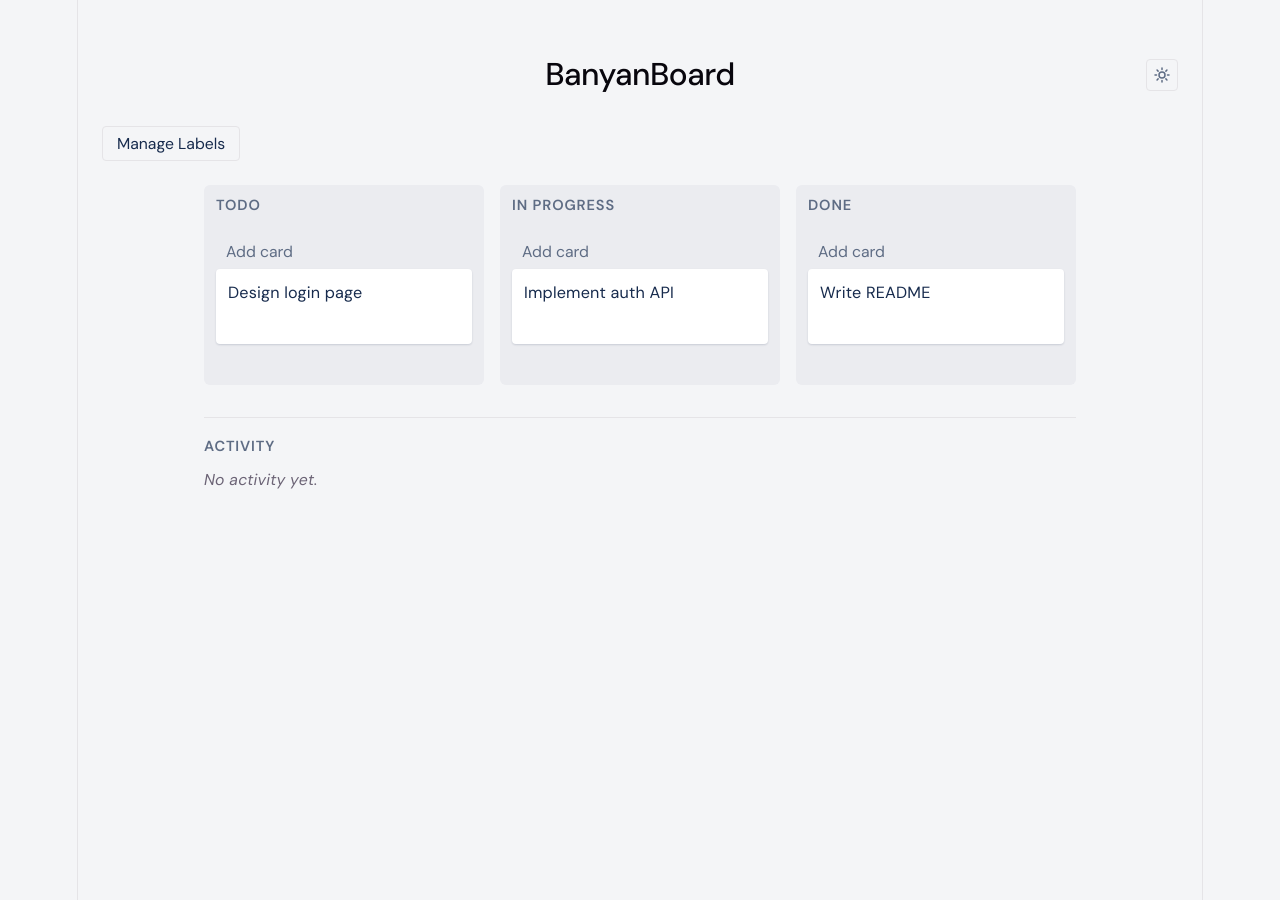
Test: Board feed integration › adds a "created in" feed entry when a card is created via the inline form
Click the button "Add card" below "Todo".
click(344, 252)  # box [216, 234, 472, 269]
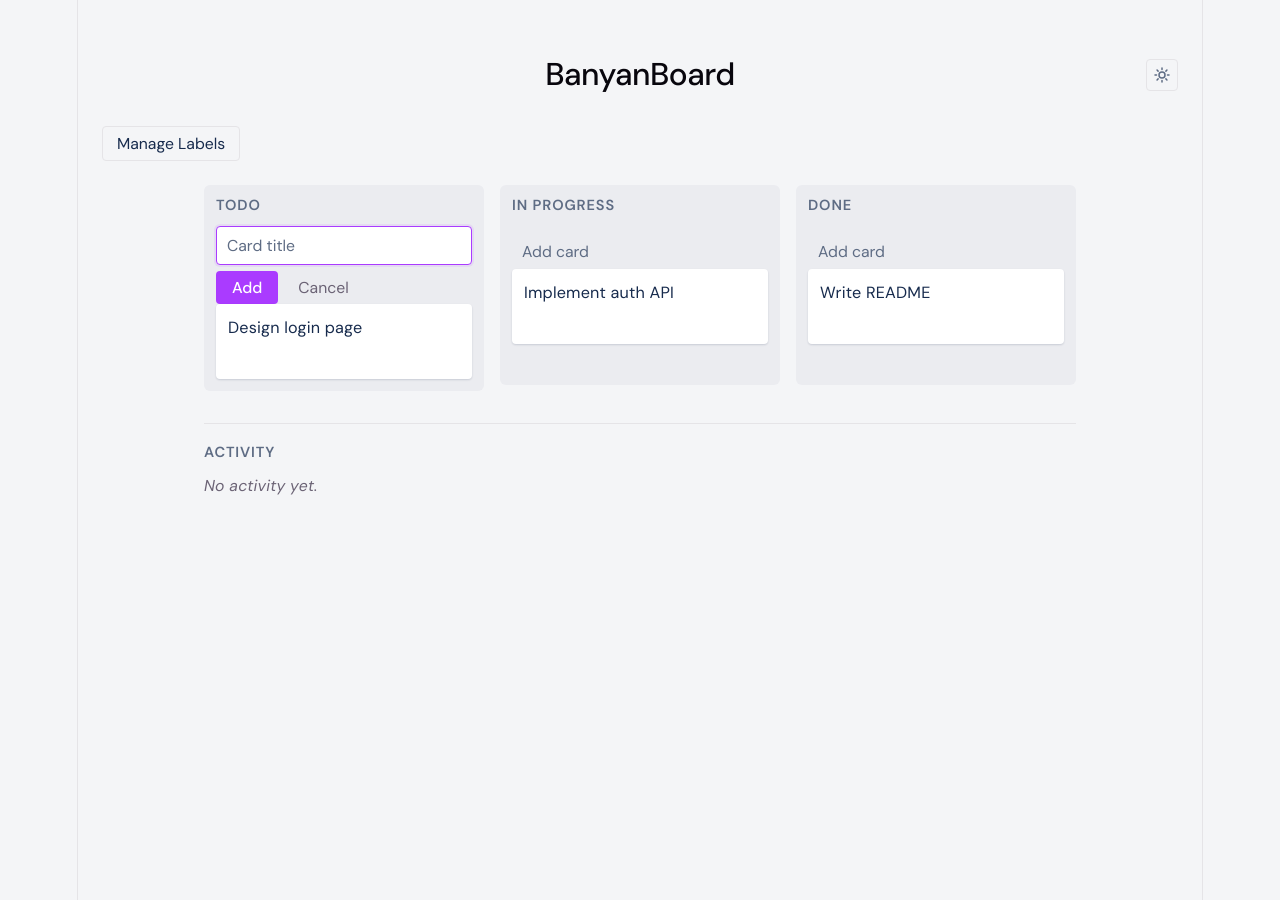
Type "Brand new task" into the field labelled "Card title".
click(344, 246); type("Brand new task")  # box [216, 226, 472, 265]
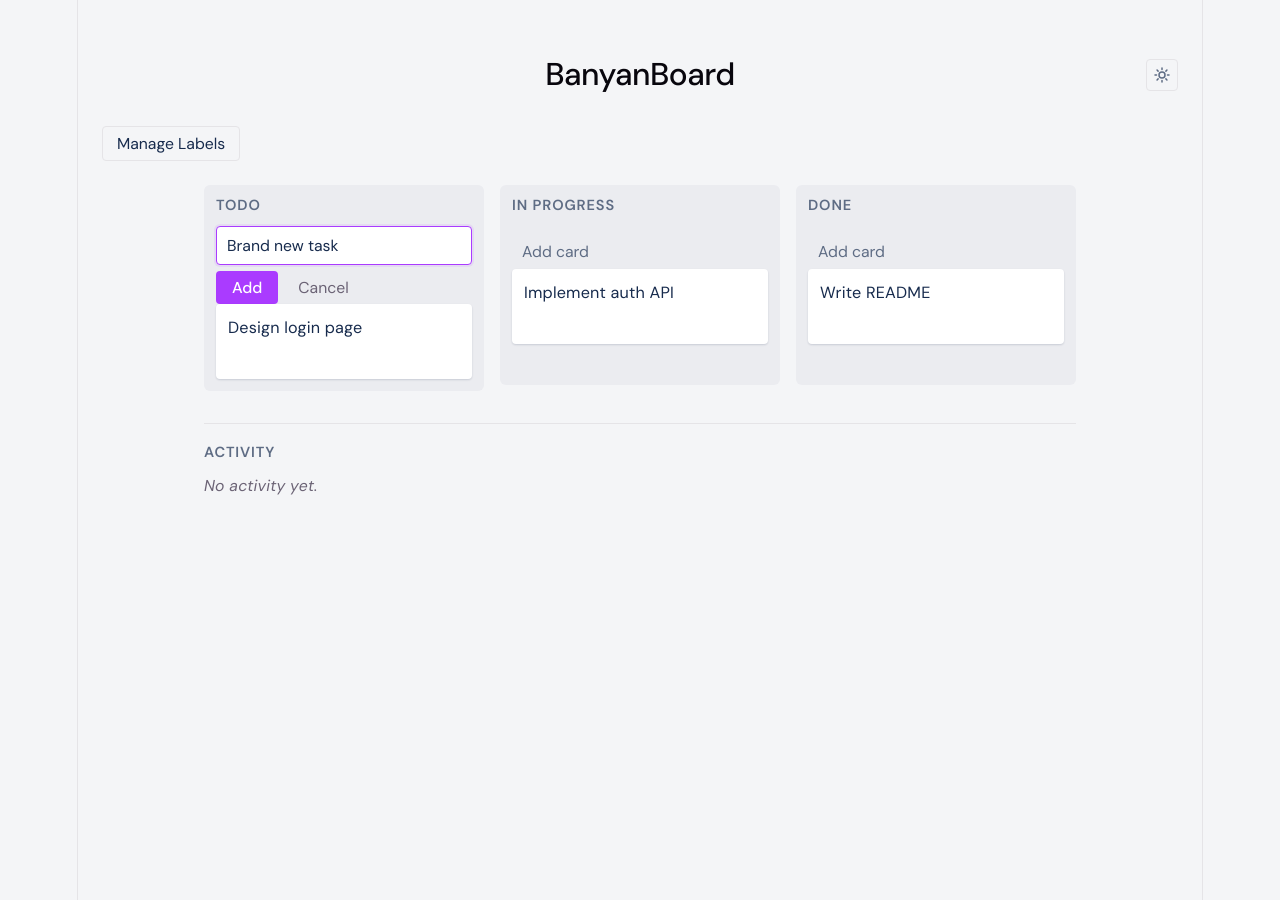
Click the button "Add".
click(247, 288)  # box [216, 271, 278, 304]
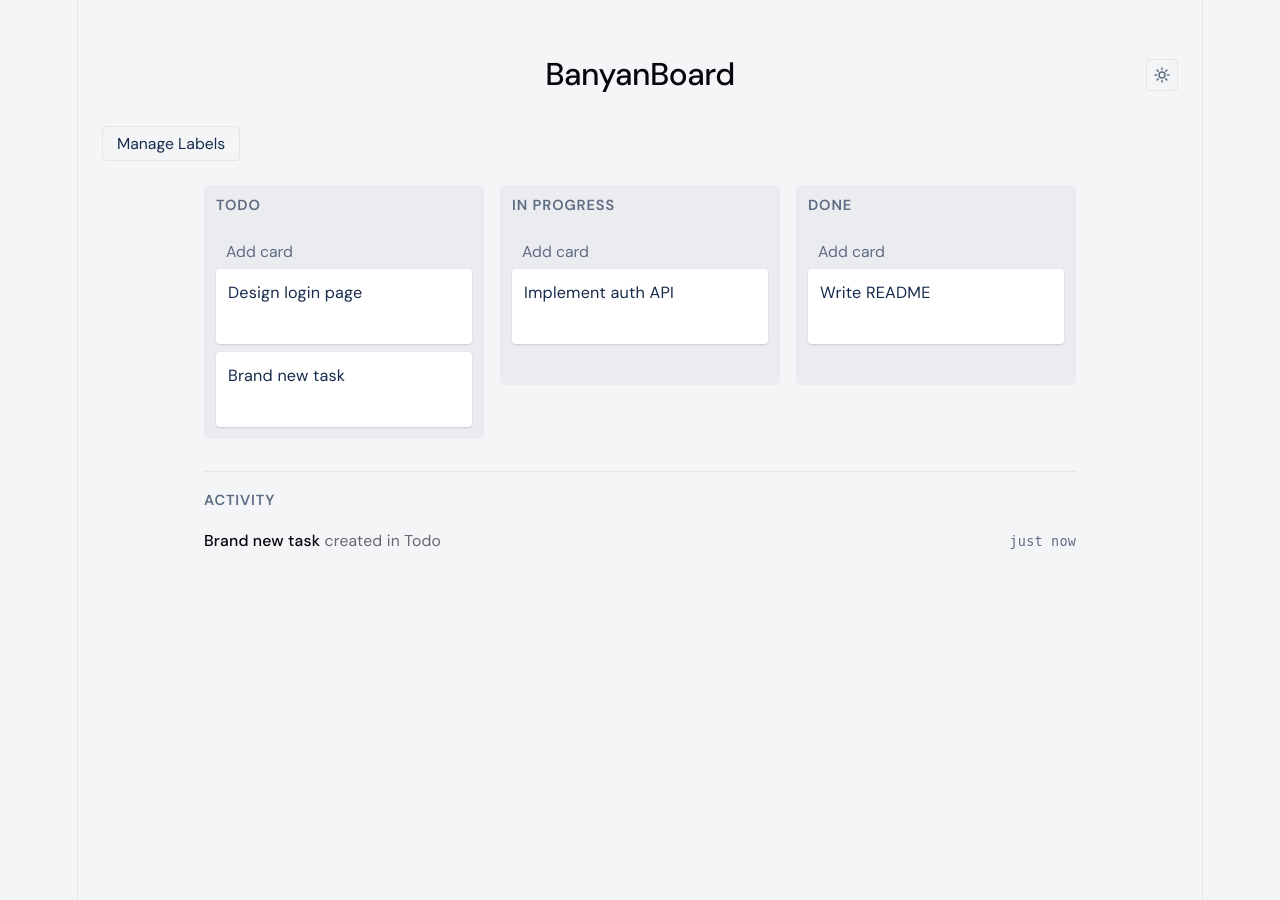
Result: the list item shows "Brand new task" at [204, 530, 320, 552]
Result: the list item shows "created in" at [320, 530, 404, 552]
